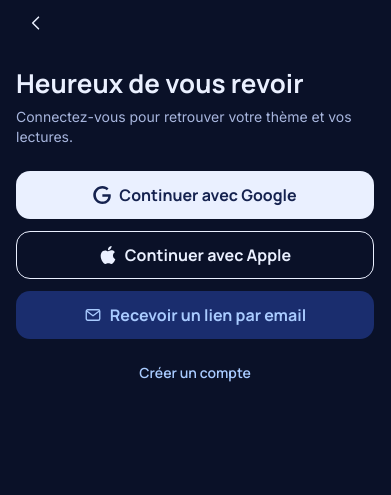
Test: AuthFlow › shows a translated error when the OAuth flow cannot start
What coordinates should you click on to do the following:
click the button "Continuer avec Apple"
I would click on:
 (195, 255)
Its box is [16,231,374,279].
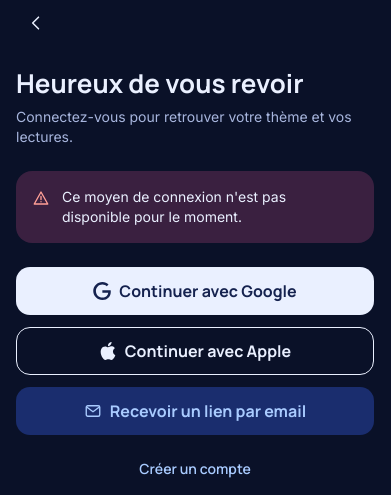
Check: the button "Continuer avec Google" is enabled, box [16,267,374,315]
Check: the message reads "Ce moyen de connexion n'est pas disponible pour le moment.", box [62,188,286,225]
